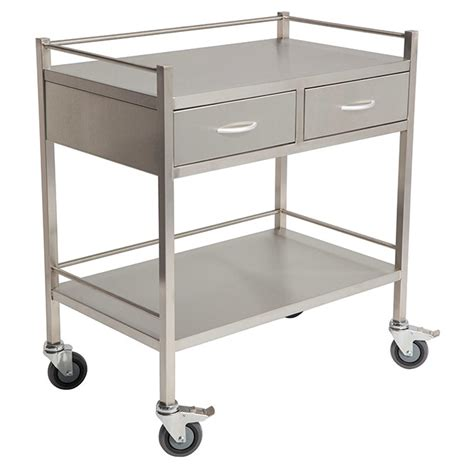Carts: (35, 11, 442, 459)
